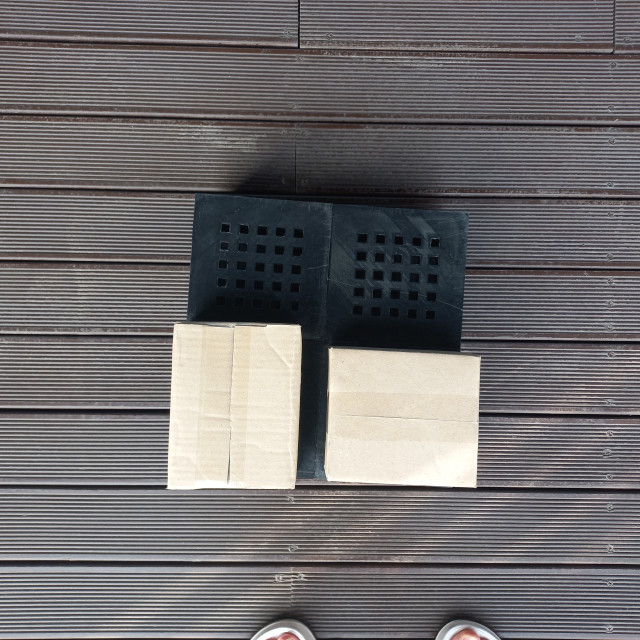box: (338, 147, 471, 321), (159, 151, 314, 294)
